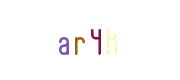4: (50, 0, 130, 80)
A: (32, 0, 112, 80)
K: (69, 0, 149, 80)
R: (49, 0, 129, 80)
